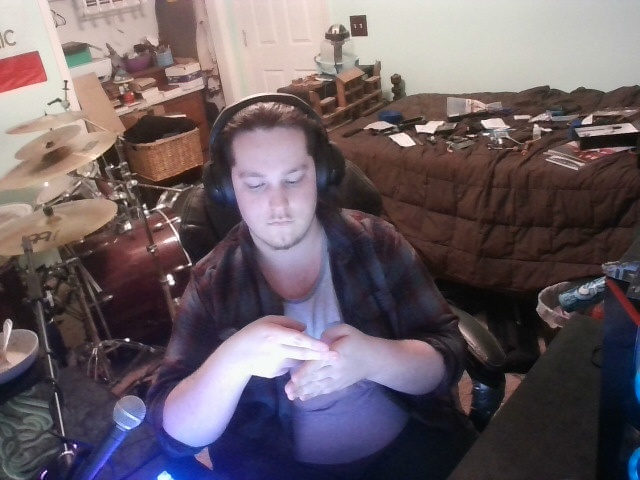name: (212, 301, 380, 416)
